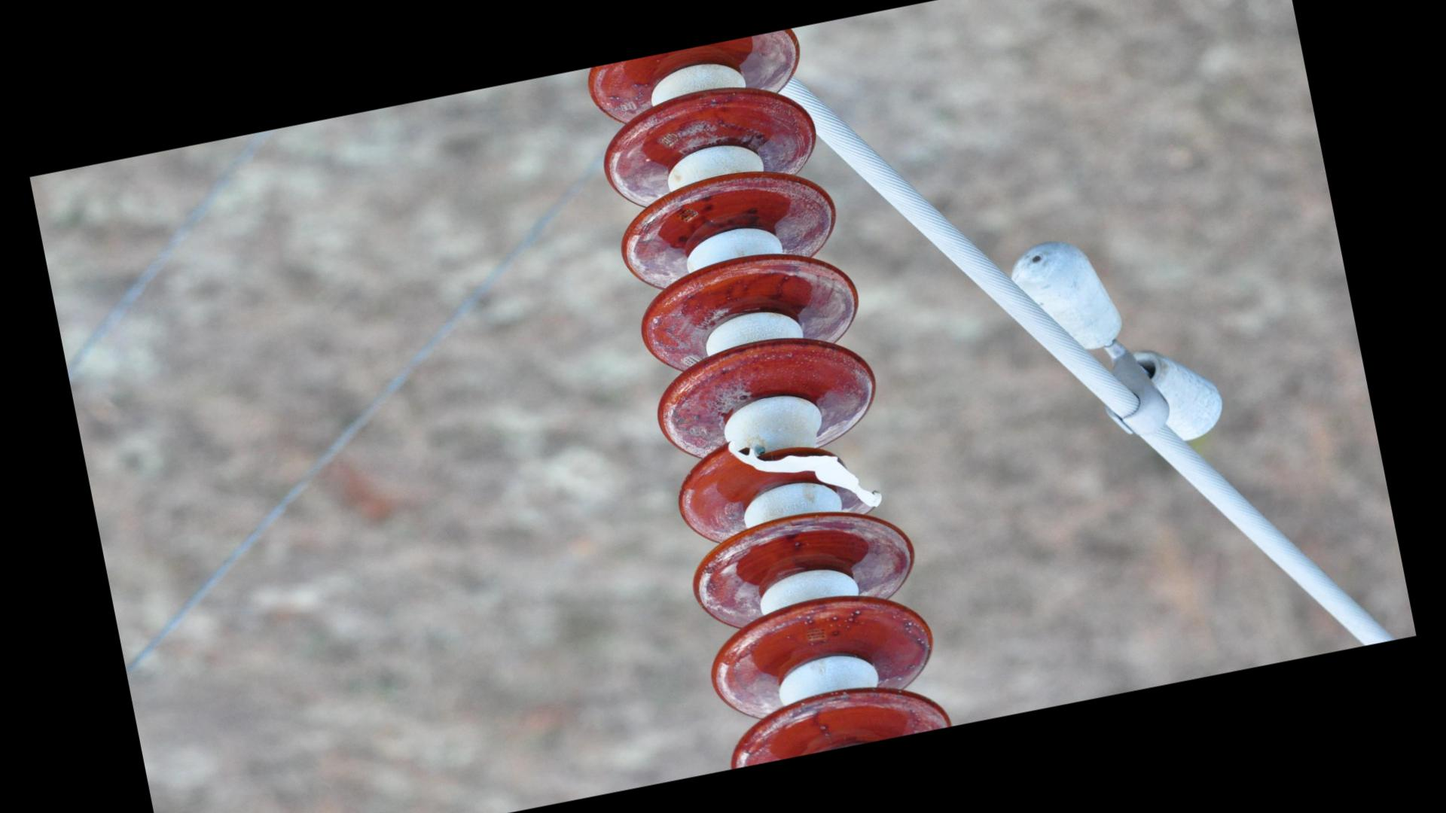damper: (998, 206, 1235, 480)
